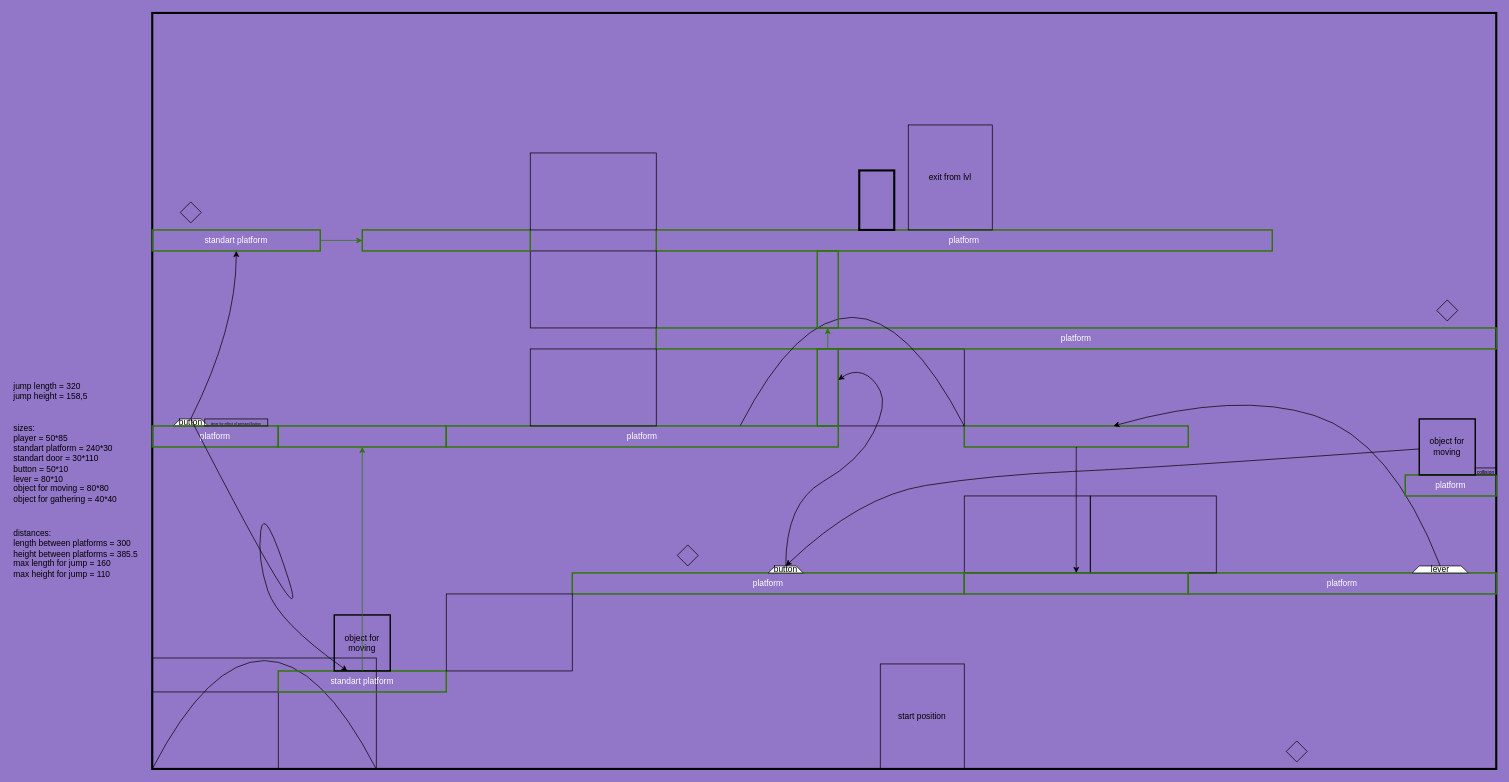
Image size: 1509x782. Some labels were removed from this diagram. Here are the shapes that lost their labels. From the top down, the centre of each, then its label:
At point 876,200: "player".
At point 827,387: "st. door".
At point 1076,436: "standart platform + 80 px".
